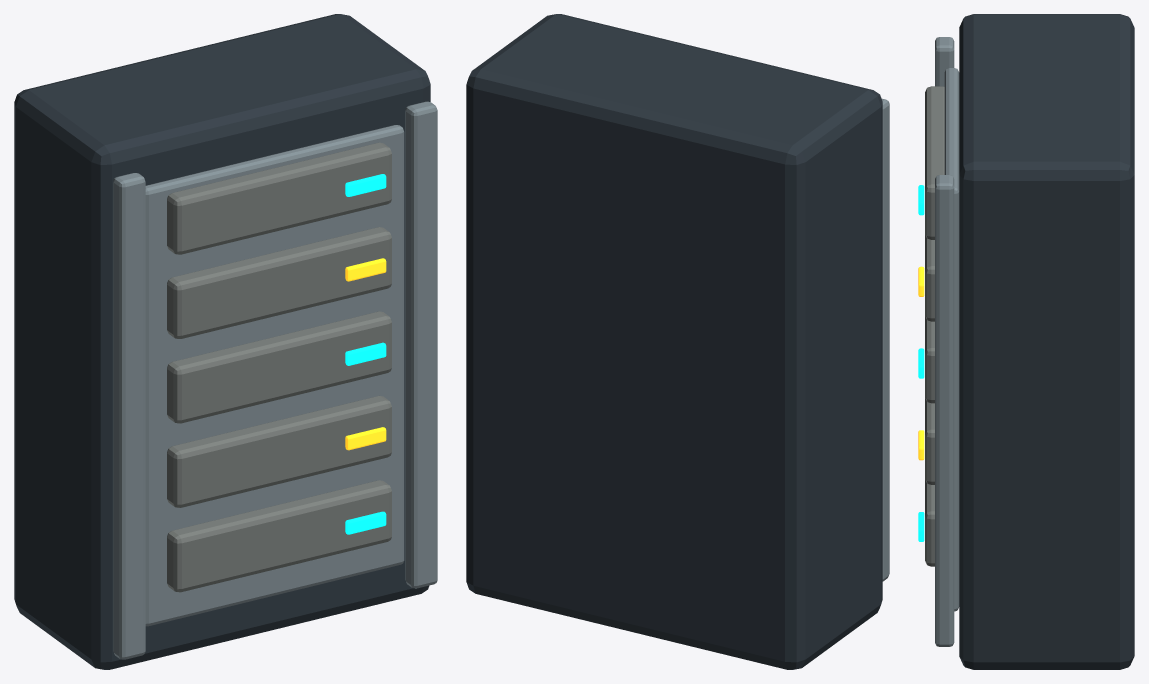
File: Data-Storage-Rack.glb
The picture shows the model from 3 angles, left to right: view 1: azimuth 30°, elevation 25°; view 2: azimuth 150°, elevation 25°; view 3: azimuth 270°, elevation 25°; orthographic projection. The views are drawn at different scales.
Parts seen in each view (by area): view 1: DataRack_Frame, DataRack_Recess, DataRack_SideRail.001, DataRack_SideRail, DataRack_Module_0, DataRack_Module_3, DataRack_Module_1, DataRack_Module_4, DataRack_Module_2, DataRack_Light_0, DataRack_Light_1, DataRack_Light_2 (+2 smaller); view 2: DataRack_Frame, DataRack_SideRail; view 3: DataRack_Frame, DataRack_SideRail.001, DataRack_Recess, DataRack_Module_4, DataRack_Module_2, DataRack_Module_0, DataRack_Module_3, DataRack_Module_1, DataRack_SideRail.
Part boxes in pixels (x1,y1,x2,y2): DataRack_Frame: [14, 14, 430, 669]; DataRack_Recess: [145, 125, 404, 626]; DataRack_SideRail.001: [405, 101, 437, 588]; DataRack_SideRail: [113, 173, 145, 659]; DataRack_Module_0: [167, 480, 391, 592]; DataRack_Module_3: [167, 227, 391, 338]; DataRack_Module_1: [167, 395, 391, 507]; DataRack_Module_4: [167, 142, 391, 254]; DataRack_Module_2: [167, 311, 391, 423]; DataRack_Light_0: [345, 511, 386, 534]; DataRack_Light_1: [345, 427, 386, 450]; DataRack_Light_2: [345, 342, 386, 365]; DataRack_Frame: [466, 14, 882, 669]; DataRack_SideRail: [882, 98, 889, 581]; DataRack_Frame: [959, 14, 1134, 669]; DataRack_SideRail.001: [935, 175, 954, 646]; DataRack_Recess: [944, 68, 959, 611]; DataRack_Module_4: [925, 86, 944, 239]; DataRack_Module_2: [925, 316, 934, 403]; DataRack_Module_0: [925, 479, 934, 566]; DataRack_Module_3: [925, 234, 934, 321]; DataRack_Module_1: [925, 398, 934, 484]; DataRack_SideRail: [935, 37, 954, 86].
Bounding box in the file's own units: 1.55 × 2.3 × 0.8875.
